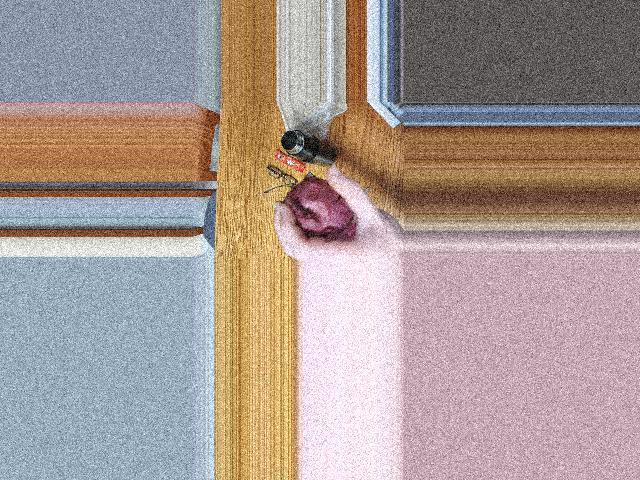onion: (295, 189, 345, 237)
